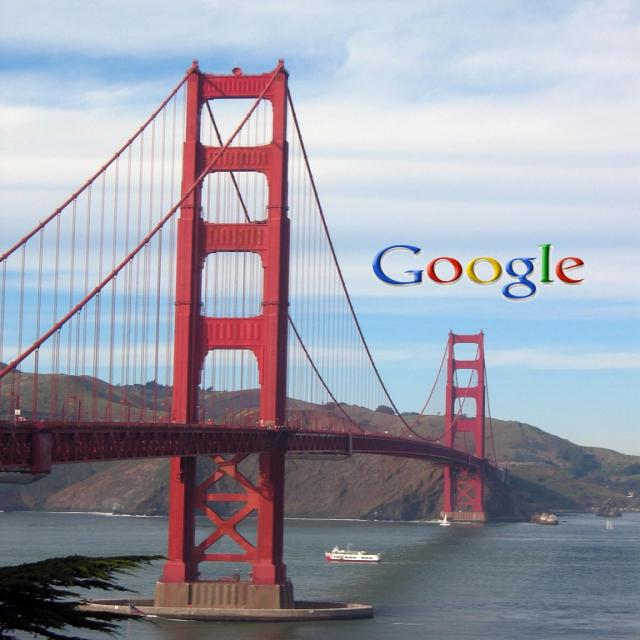google: (368, 241, 593, 304)
